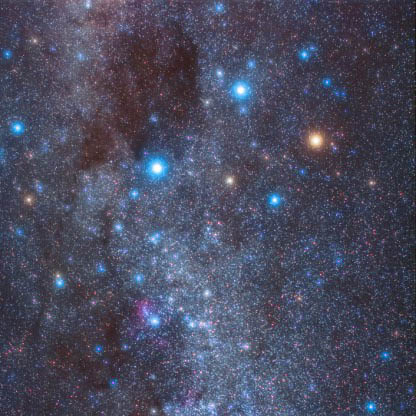Southern Cross: (132, 147, 170, 190), (297, 125, 331, 162), (224, 75, 257, 108), (261, 184, 289, 216)
